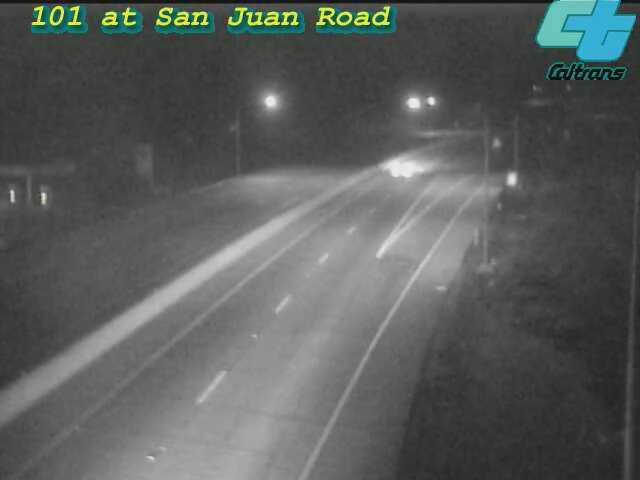vehicle: (365, 128, 445, 208)
